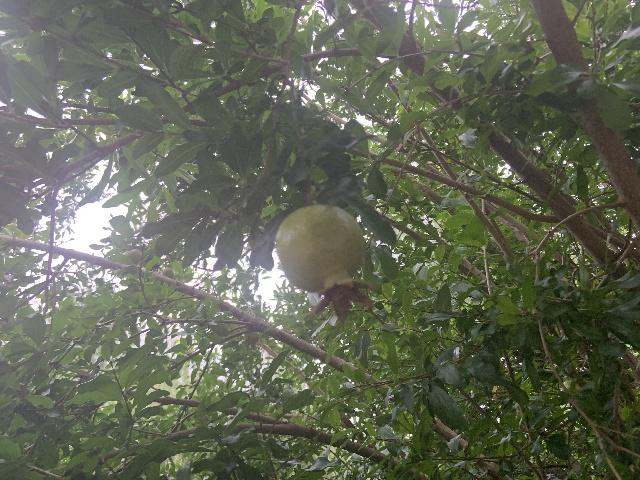mid-growth: (273, 203, 377, 322)
